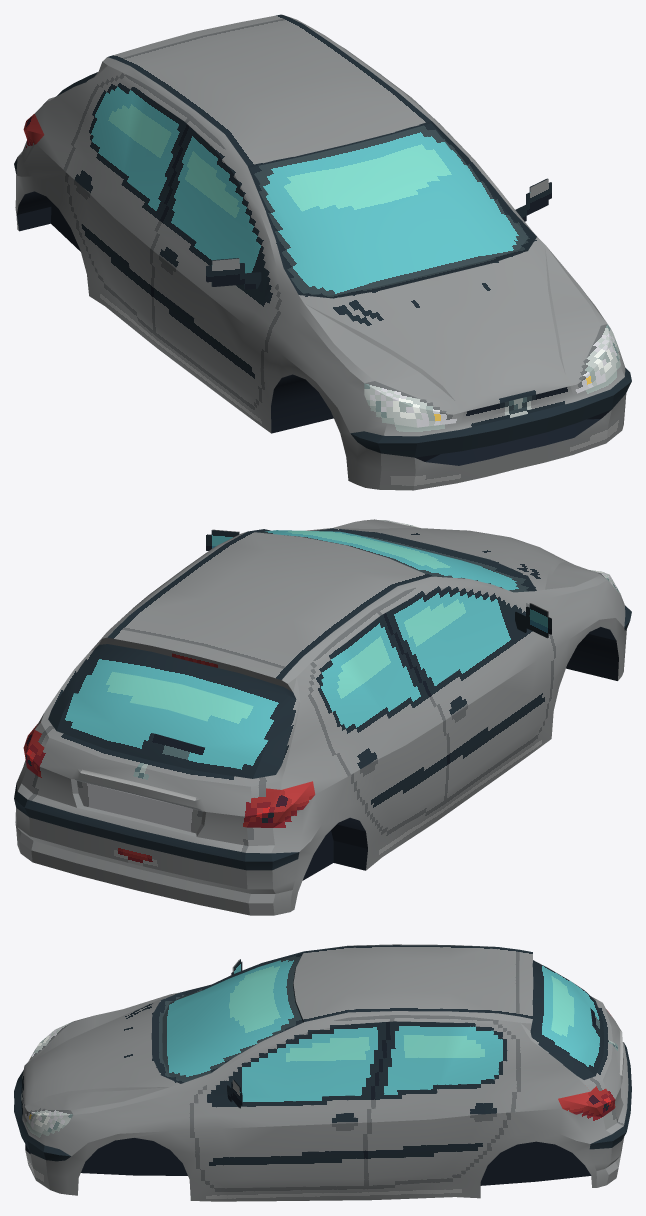
The model's file is peugeot206.glb.
3 views of the same model, one above another, from view 1: azimuth 30°, elevation 25°; view 2: azimuth 150°, elevation 25°; view 3: azimuth 270°, elevation 25° (orthographic). The views are drawn at different scales.
Visible parts, largest first — view 1: Body206; view 2: Body206; view 3: Body206.
Part boxes in pixels (left/top/right/bottom): Body206: left=14, top=14, right=631, bottom=490; Body206: left=14, top=519, right=631, bottom=915; Body206: left=14, top=944, right=631, bottom=1201.
Size of the model in its own units: 1.95 by 1.19 by 3.83.
1 material, 1 textured.
